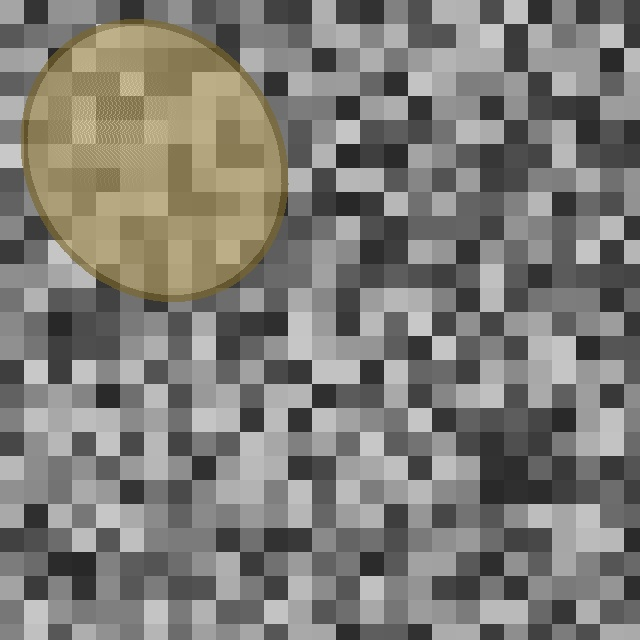lens: (24, 22, 284, 298)
